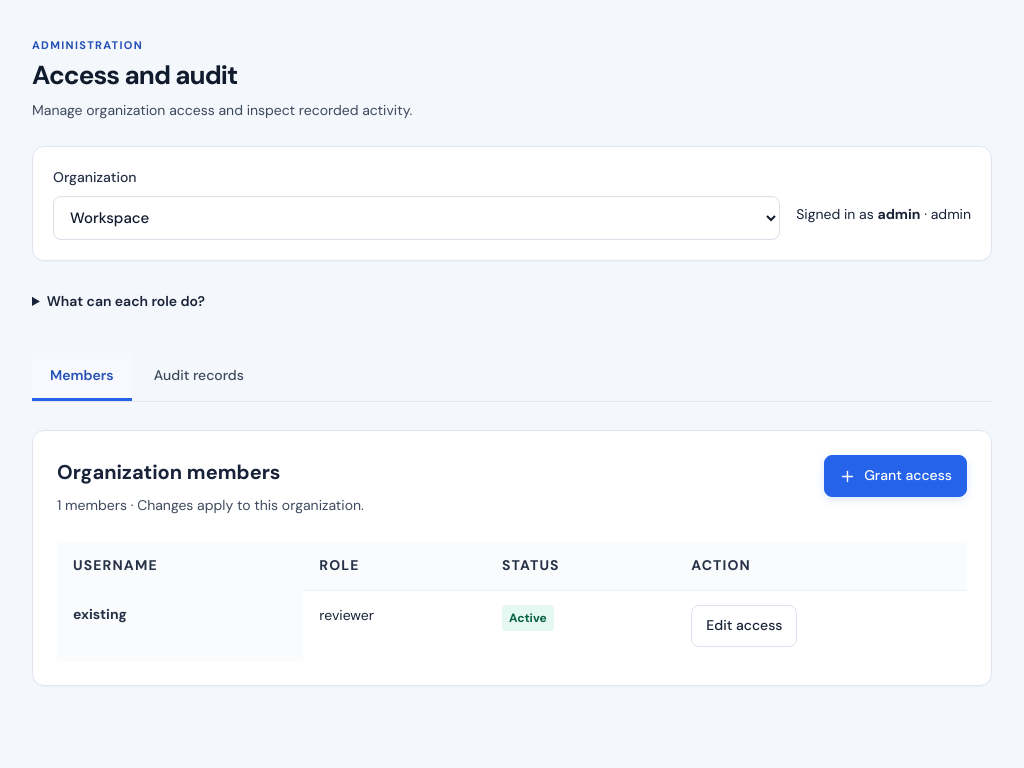
Test: audit shows readable activity columns and keeps raw record details collapsed
The width and height of the screenshot is (1024, 768).
Click the button "Audit records" at (199, 377), box [136,353,262,401]
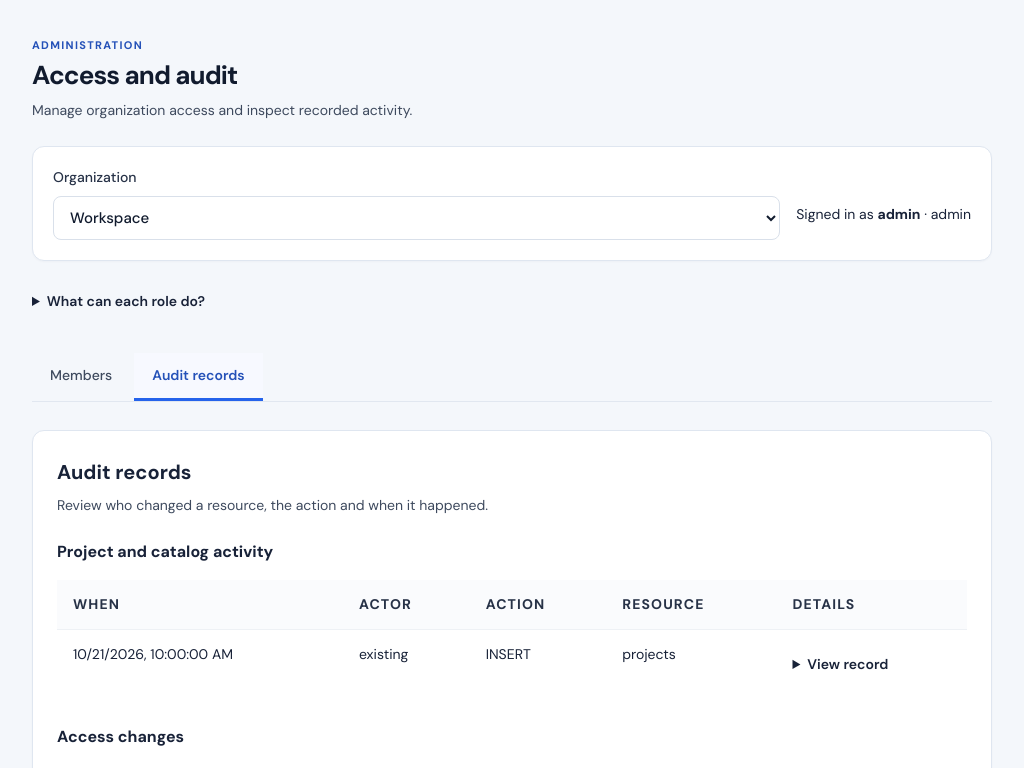
expect the text "Project and catalog activity" is shown: met, box [57,541,273,562]
expect the text "projects" is shown: met, box [606,629,776,702]
